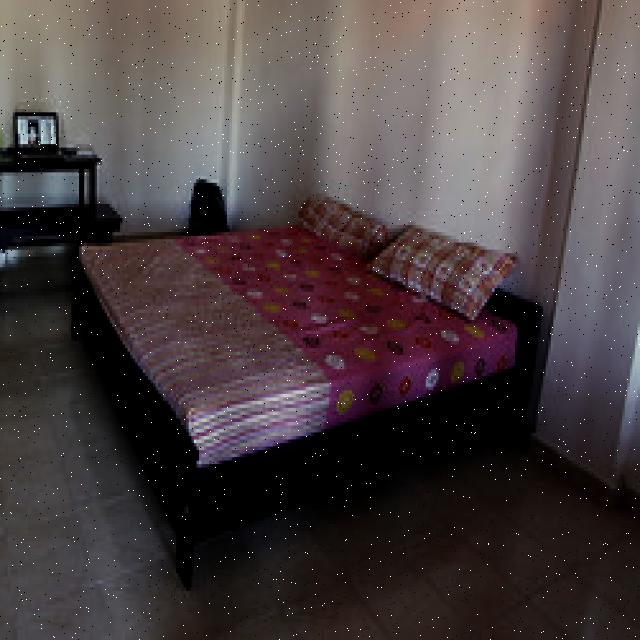bed: (76, 192, 524, 458)
